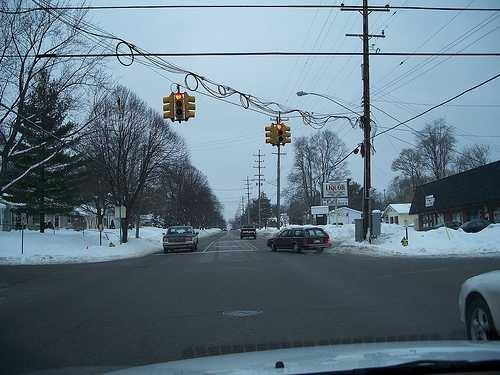red: (270, 119, 289, 147), (172, 92, 189, 120)
